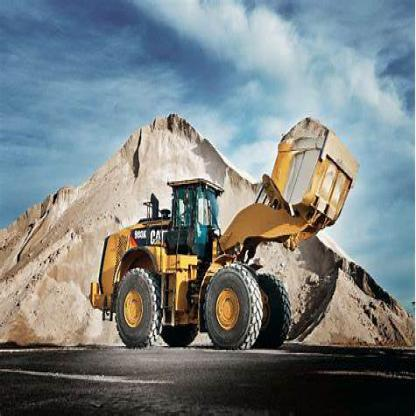bull_dozer/loader/grader: (88, 110, 364, 358)
